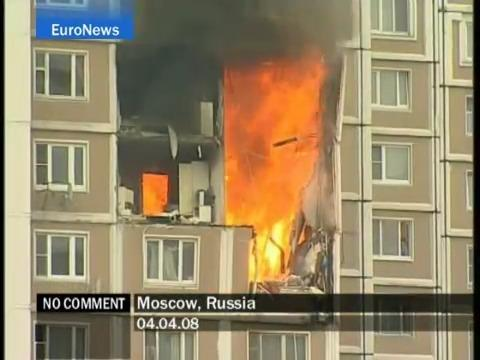fire: (225, 57, 333, 279), (144, 173, 170, 216)
